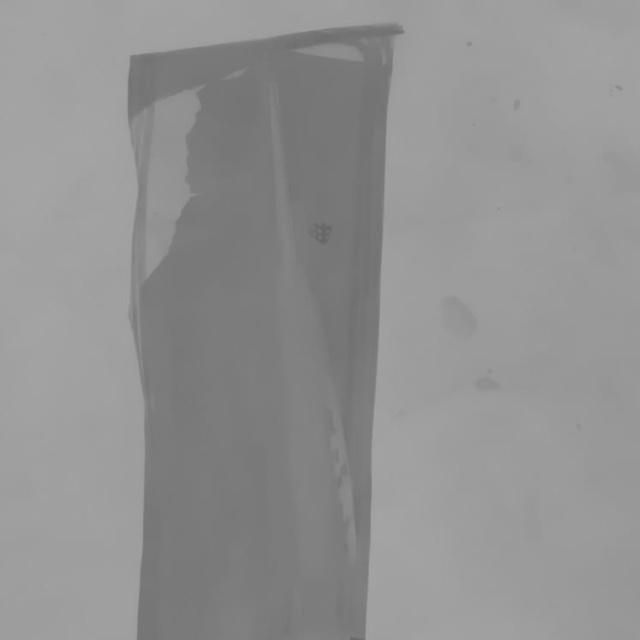botador: (262, 77, 361, 589)
